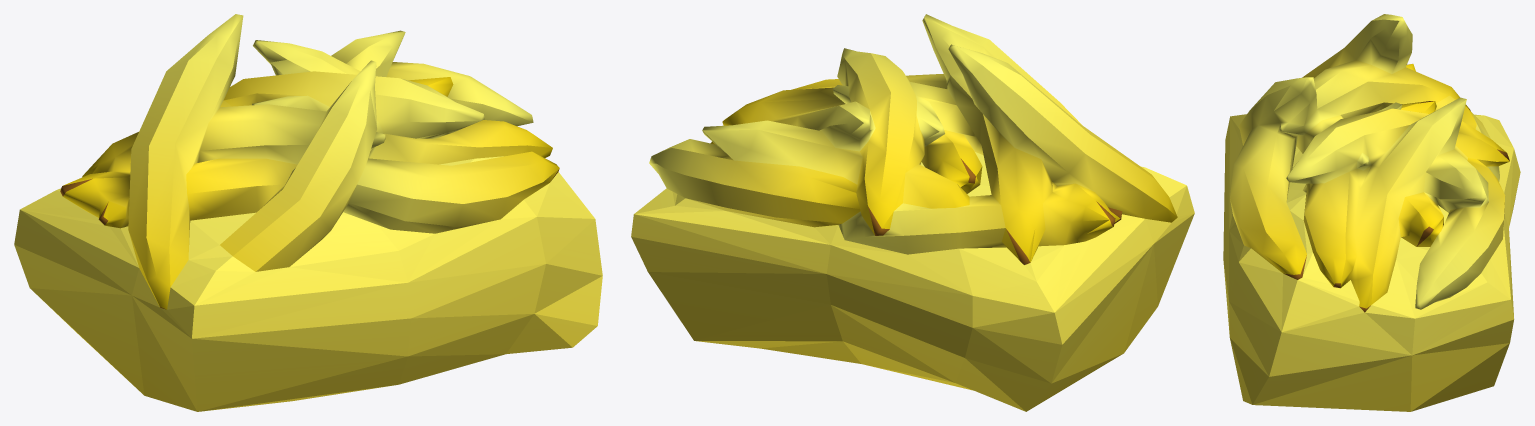
The model's file is banana_pile_lowpoly.fbx.
The picture shows the model from 3 angles, left to right: view 1: azimuth 30°, elevation 25°; view 2: azimuth 150°, elevation 25°; view 3: azimuth 270°, elevation 25°; orthographic projection. The views are drawn at different scales.
Visible parts, largest first — view 1: banana_pile_lowpoly; view 2: banana_pile_lowpoly; view 3: banana_pile_lowpoly.
Part boxes in pixels (x1,y1,x2,y2): banana_pile_lowpoly: (14, 14, 602, 411); banana_pile_lowpoly: (631, 14, 1194, 411); banana_pile_lowpoly: (1223, 14, 1520, 411).
Size of the model in its own units: 422 by 280 by 264.
